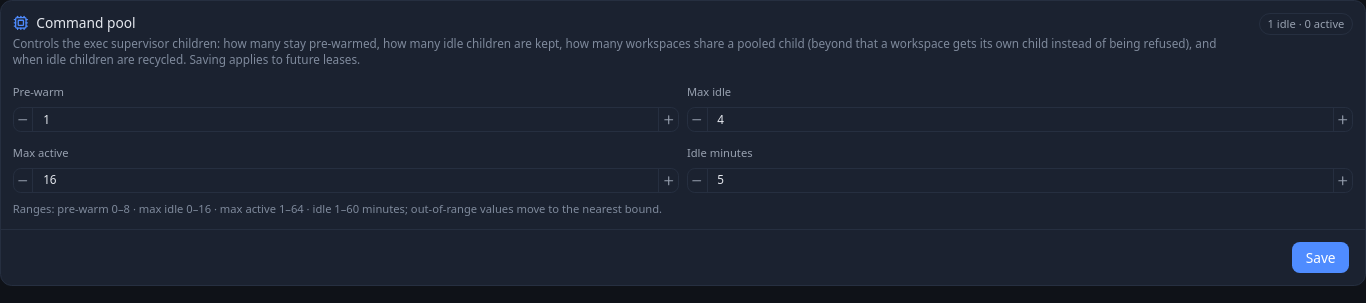
Test case: ExecPoolCard › saves the edited knobs through the binding and adopts the answer
Replace the text in the number field named "Pre-warm" with "3" at (346, 120), box [33,108,658,131]
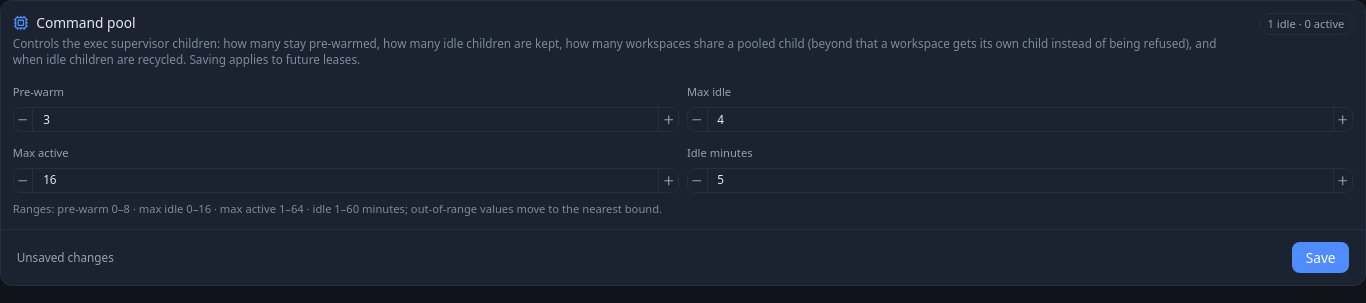
Expected: the text "Unsaved changes" is shown, [17,250,114,266]
Click the button "Save" at (1321, 258), box [1292,242,1349,273]
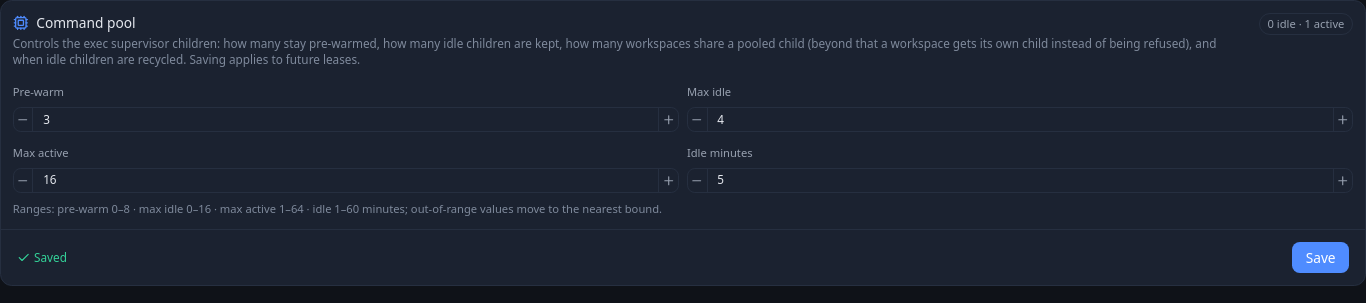
Expected: the text "0 idle · 1 active" is shown, [1259,13,1353,36]
